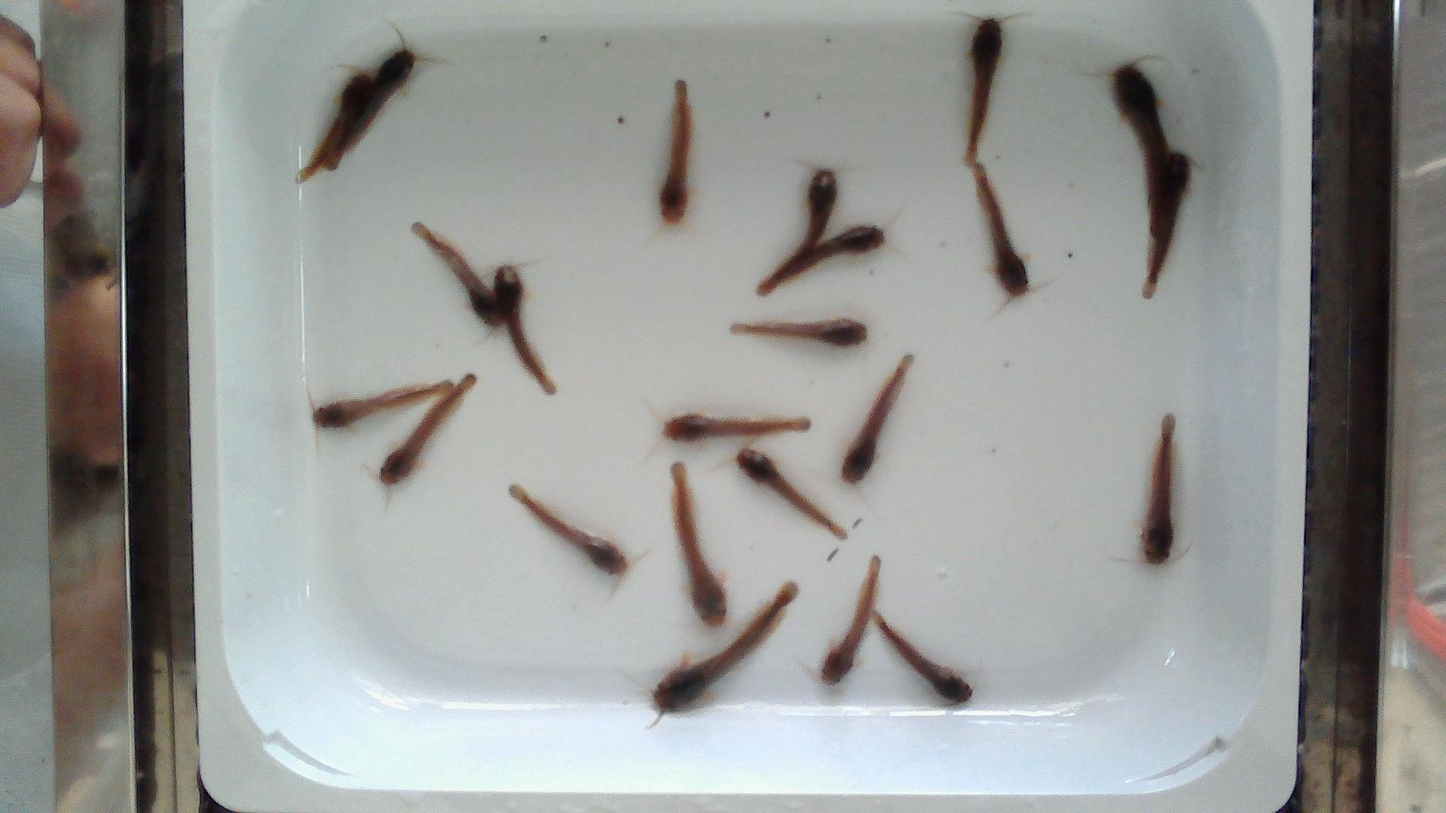lele: (654, 582, 797, 712), (325, 48, 417, 172), (380, 373, 475, 485), (509, 485, 627, 574), (411, 221, 509, 325), (758, 168, 839, 291), (737, 449, 847, 539), (295, 72, 378, 183), (841, 355, 912, 483), (874, 611, 972, 703), (671, 463, 726, 625), (492, 266, 557, 393), (1139, 150, 1192, 300), (821, 556, 880, 684), (1115, 67, 1168, 207), (313, 380, 458, 427), (974, 163, 1026, 294), (964, 20, 1004, 167), (784, 223, 884, 280), (1140, 414, 1175, 564), (660, 80, 692, 224), (663, 413, 810, 441), (731, 318, 867, 346)
